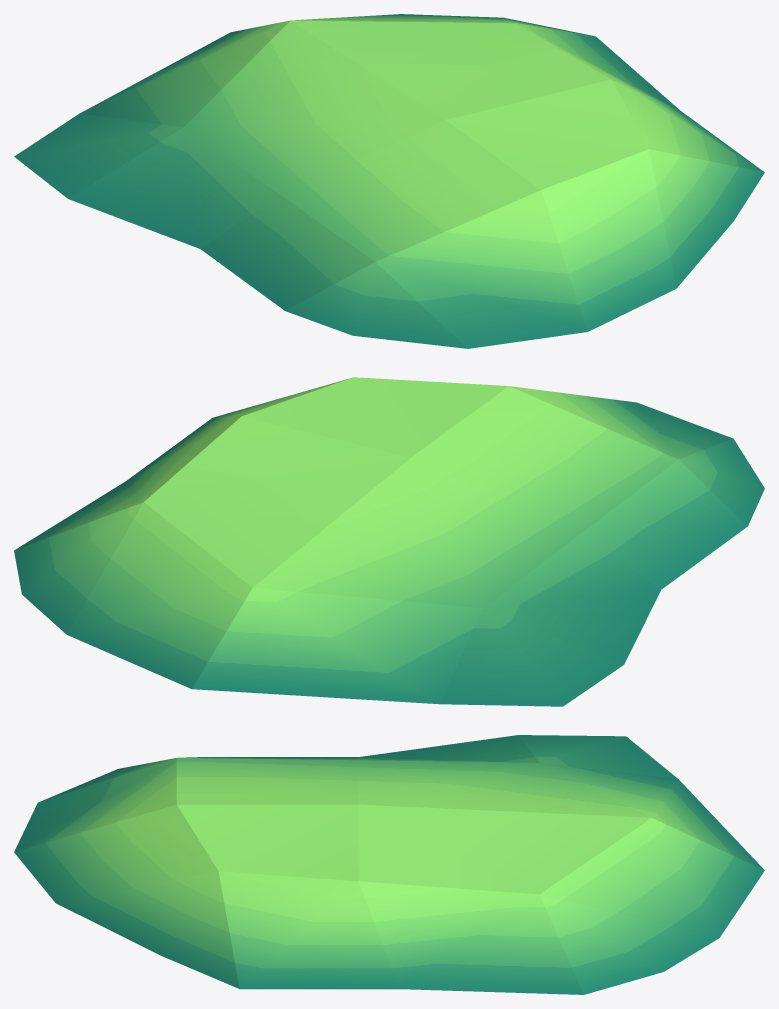
The model's file is terrain_3.fbx.
3 renders of one model, top to bottom at view 1: azimuth 30°, elevation 25°; view 2: azimuth 150°, elevation 25°; view 3: azimuth 270°, elevation 25°, orthographic. The views are drawn at different scales.
Parts seen in each view (by area): view 1: pPlane39; view 2: pPlane39; view 3: pPlane39.
Boxes of the visible parts, <box> form: pPlane39: <box>14,14,764,348</box>; pPlane39: <box>14,377,764,706</box>; pPlane39: <box>14,735,764,994</box>.
Size of the model in its own units: 424 by 50 by 517.
